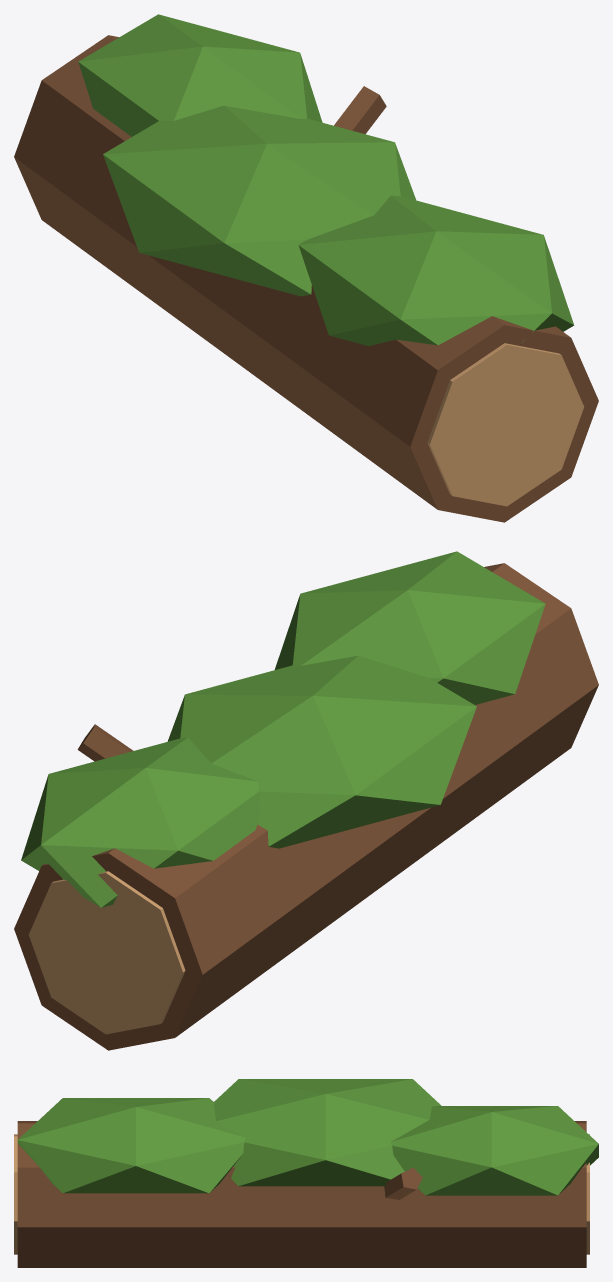
Rendered from tronco_musgo.glb.
The picture shows the model from 3 angles, top to bottom: view 1: azimuth 30°, elevation 25°; view 2: azimuth 150°, elevation 25°; view 3: azimuth 270°, elevation 25°; orthographic projection. The views are drawn at different scales.
Visible parts, largest first — view 1: tronco, musgo_1, musgo_0, musgo_2, anel_-1, galho; view 2: tronco, musgo_1, musgo_0, musgo_2, anel_1, galho; view 3: tronco, musgo_1, musgo_0, musgo_2, galho, anel_-1, anel_1.
Part boxes in pixels (x1,y1,x2,y2): tronco: [14, 35, 598, 522]; musgo_1: [103, 105, 415, 296]; musgo_0: [298, 195, 574, 346]; musgo_2: [78, 14, 322, 136]; anel_-1: [427, 343, 583, 506]; galho: [334, 86, 386, 134]; tronco: [14, 563, 598, 1050]; musgo_1: [167, 655, 476, 848]; musgo_0: [274, 551, 545, 704]; musgo_2: [21, 737, 260, 907]; anel_1: [29, 871, 185, 1034]; galho: [77, 724, 133, 761]; tronco: [17, 1121, 586, 1267]; musgo_1: [214, 1079, 441, 1186]; musgo_0: [17, 1098, 245, 1193]; musgo_2: [391, 1106, 598, 1195]; galho: [384, 1167, 422, 1199]; anel_-1: [14, 1134, 17, 1254]; anel_1: [586, 1134, 589, 1254].
Size of the model in its own units: 1.06 by 0.76 by 2.47.
